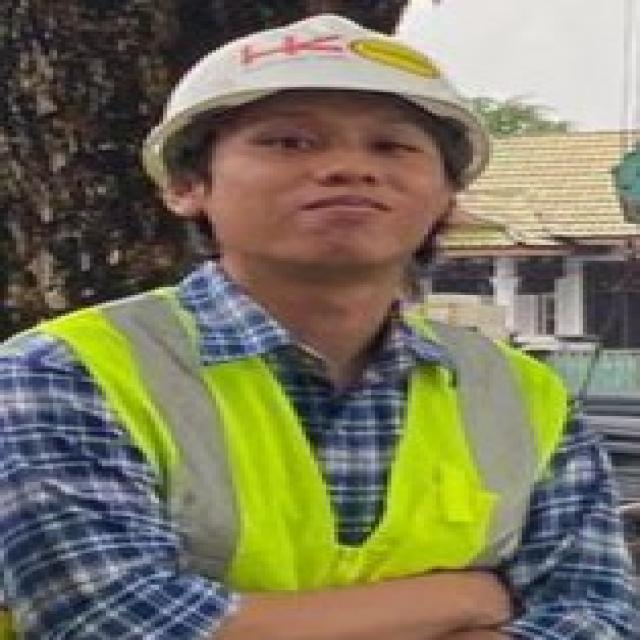safetyhelmet: (150, 12, 494, 271)
